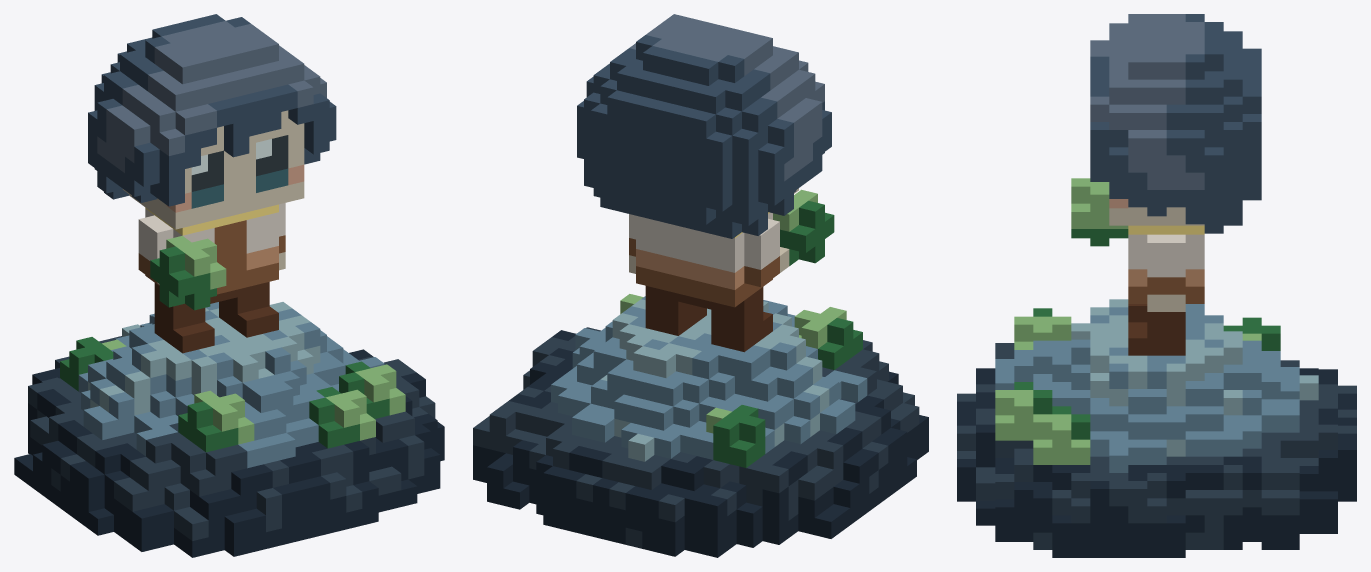
Rendered from 吃瓜群众.glb.
The picture shows the model from 3 angles, left to right: view 1: azimuth 30°, elevation 25°; view 2: azimuth 150°, elevation 25°; view 3: azimuth 270°, elevation 25°; orthographic projection. The views are drawn at different scales.
Visible parts, largest first — view 1: _21x25x21; view 2: _21x25x21; view 3: _21x25x21.
Part boxes in pixels (x1,y1,x2,y2): _21x25x21: (14,14,444,557); _21x25x21: (473,14,928,557); _21x25x21: (957,14,1356,557).
Size of the model in its own units: 21 by 25 by 21.
1 material, 1 textured.
